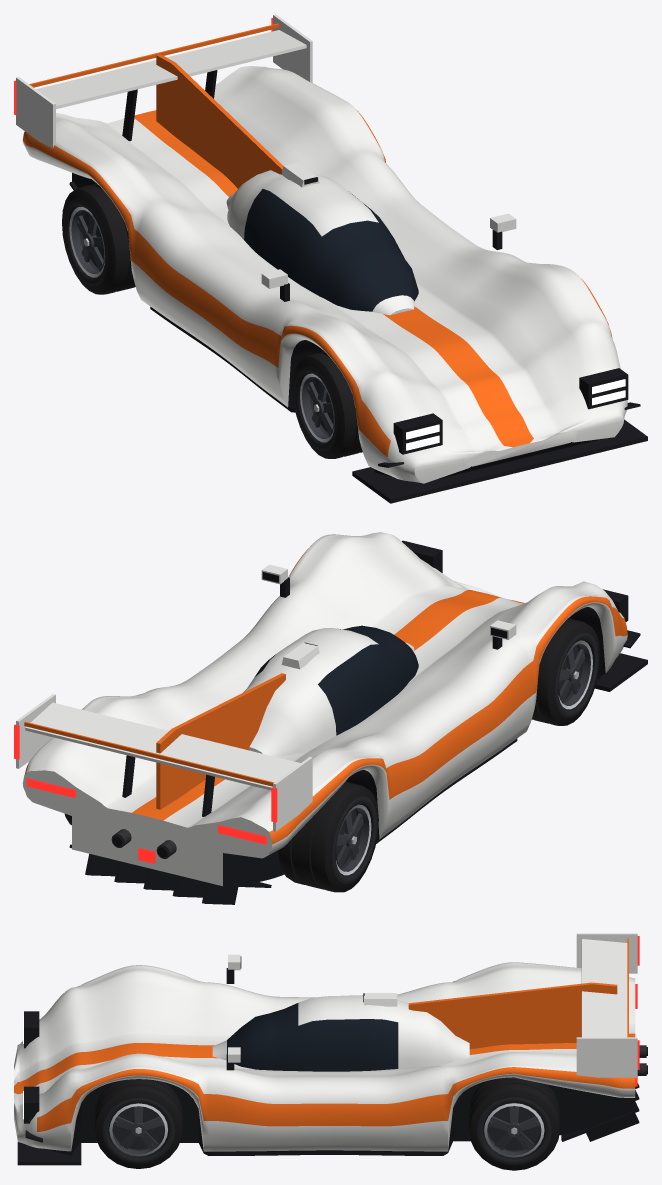
File: comet.glb
3 views of the same model, one above another, from view 1: azimuth 30°, elevation 25°; view 2: azimuth 150°, elevation 25°; view 3: azimuth 270°, elevation 25° (orthographic). The views are drawn at different scales.
Parts seen in each view (by area): view 1: body, wheel_RR, wheel_FR; view 2: body, wheel_RR, wheel_FR; view 3: body, wheel_RL, wheel_FL.
Part boxes in pixels (bbox=[...]): body: bbox=[14, 14, 647, 503]; wheel_RR: bbox=[62, 183, 135, 294]; wheel_FR: bbox=[292, 351, 362, 458]; body: bbox=[14, 532, 647, 904]; wheel_RR: bbox=[278, 781, 378, 892]; wheel_FR: bbox=[531, 618, 600, 725]; body: bbox=[14, 933, 647, 1165]; wheel_RL: bbox=[468, 1077, 559, 1170]; wheel_FL: bbox=[94, 1079, 183, 1168].
Size of the model in its own units: 2.04 by 1.17 by 4.98.
